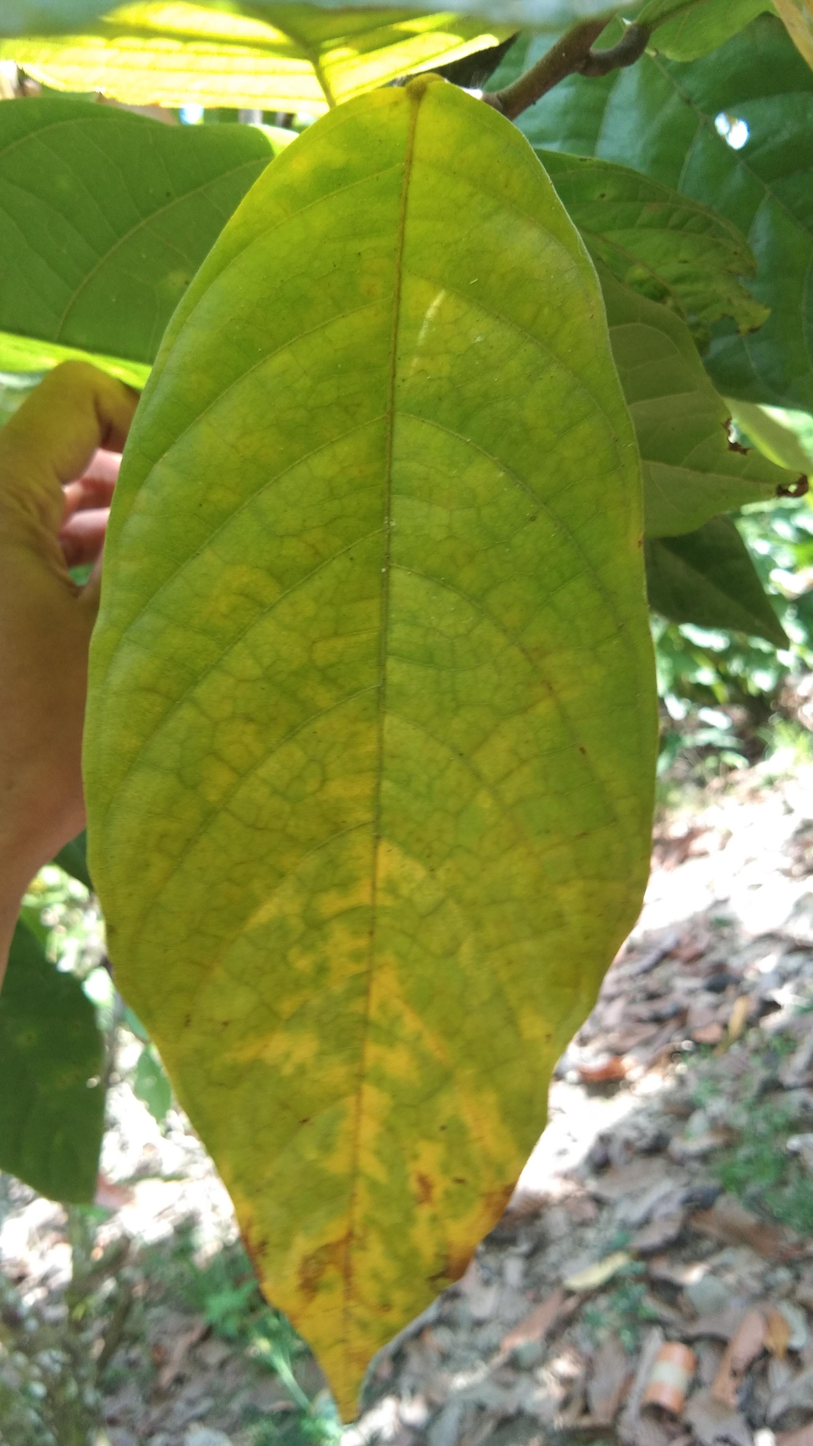deficiencia_potasio: (73, 56, 667, 1446)
